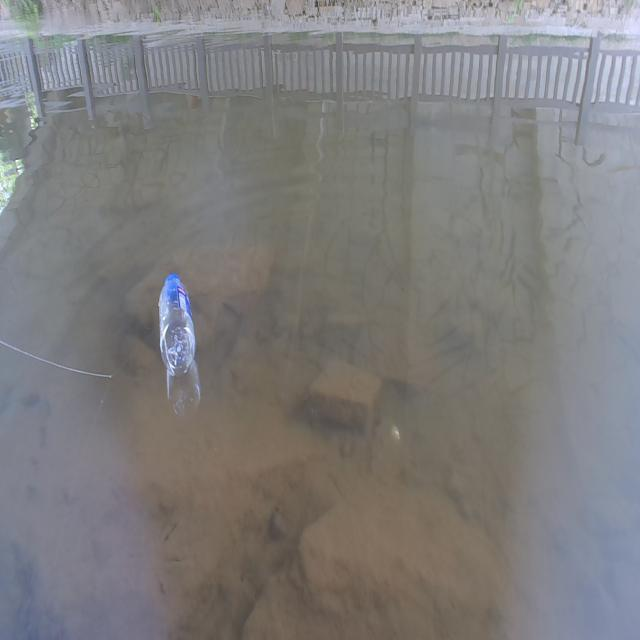garbage: (157, 272, 195, 378)
